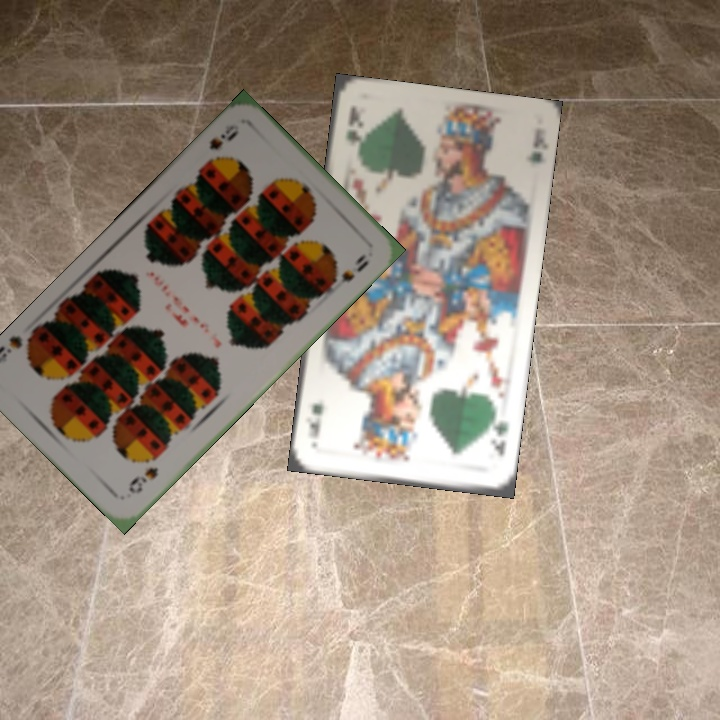GK: (486, 410, 510, 459), (341, 101, 364, 148)
S9: (200, 120, 242, 168), (124, 463, 161, 497)
